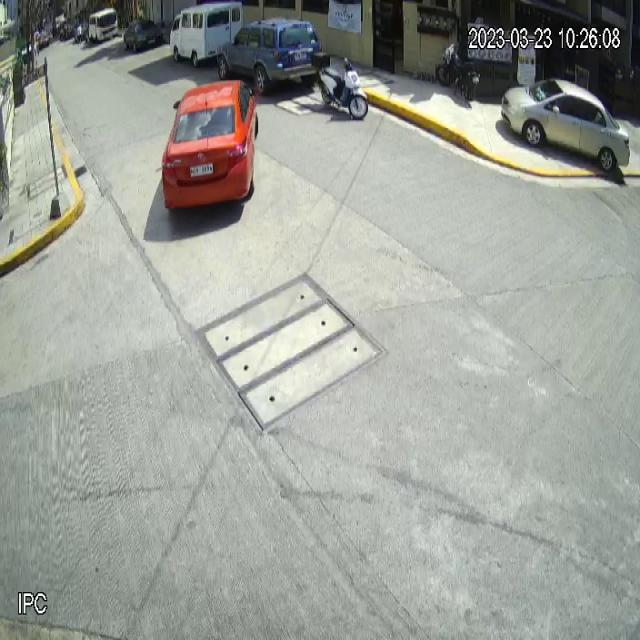Car: (160, 78, 259, 213), (500, 76, 630, 173), (215, 15, 322, 93)
Motorcycle: (311, 51, 368, 120)
Van: (170, 0, 244, 67)
